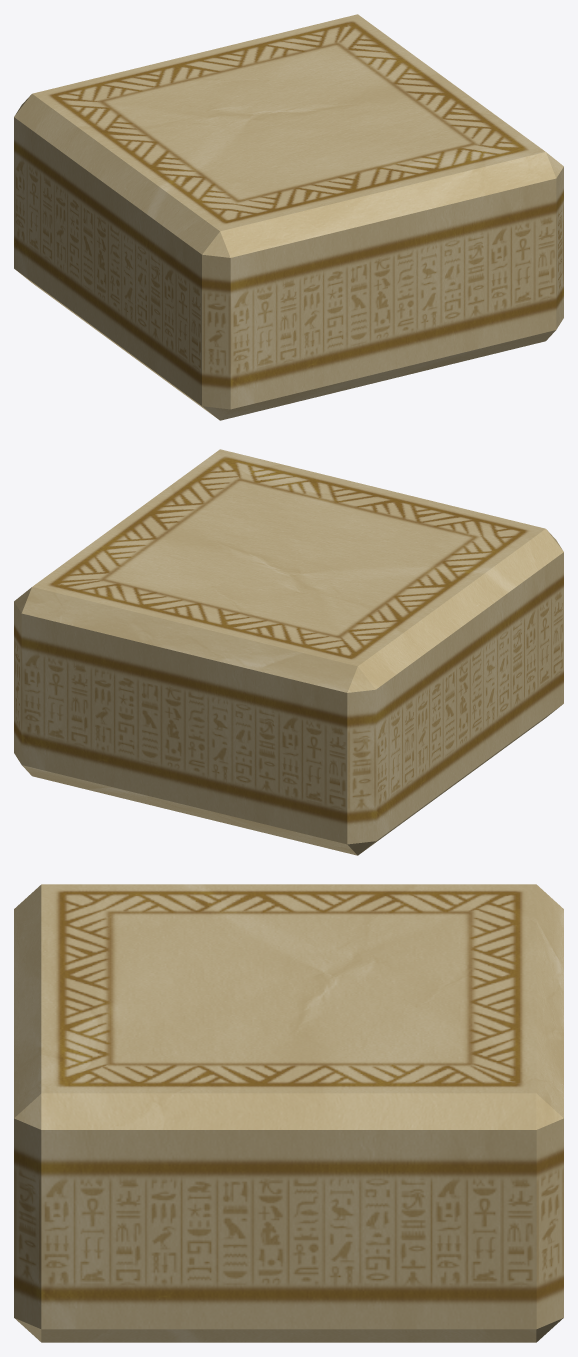
File: Lift.gltf
3 renders of one model, top to bottom at view 1: azimuth 30°, elevation 25°; view 2: azimuth 150°, elevation 25°; view 3: azimuth 270°, elevation 25°, orthographic. The views are drawn at different scales.
Visible parts, largest first — view 1: Cube; view 2: Cube; view 3: Cube.
Boxes of the visible parts, <box> form: Cube: <box>14,14,563,420</box>; Cube: <box>14,449,563,855</box>; Cube: <box>14,884,563,1342</box>.
Bounding box in the file's own units: 10 × 5 × 10.
Materials: 1 (1 with a texture image).
